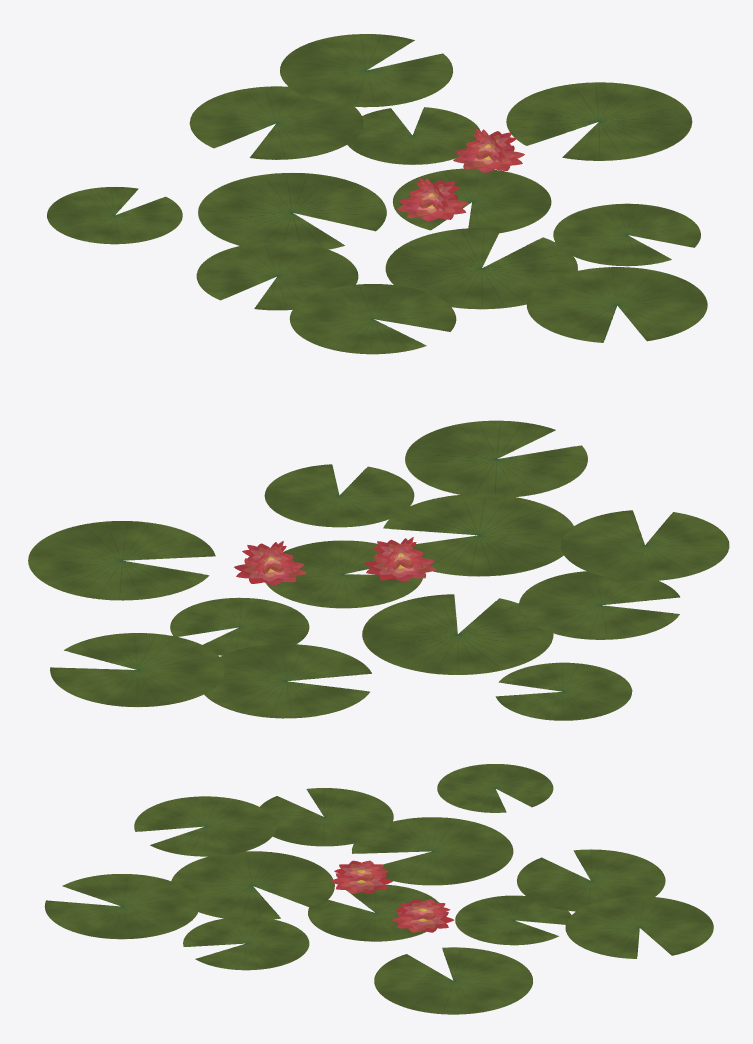
Rendered from WaterLily_2.gltf.
The picture shows the model from 3 angles, top to bottom: view 1: azimuth 30°, elevation 25°; view 2: azimuth 150°, elevation 25°; view 3: azimuth 270°, elevation 25°; orthographic projection. The views are drawn at different scales.
Parts seen in each view (by area): view 1: WaterLily_2; view 2: WaterLily_2; view 3: WaterLily_2.
Part boxes in pixels (x1,y1,x2,y2): WaterLily_2: (47, 34, 707, 354); WaterLily_2: (28, 420, 729, 720); WaterLily_2: (44, 764, 713, 1014).
Bounding box in the file's own units: 1 × 0.0579 × 1.11.
2 materials, 2 textured.
